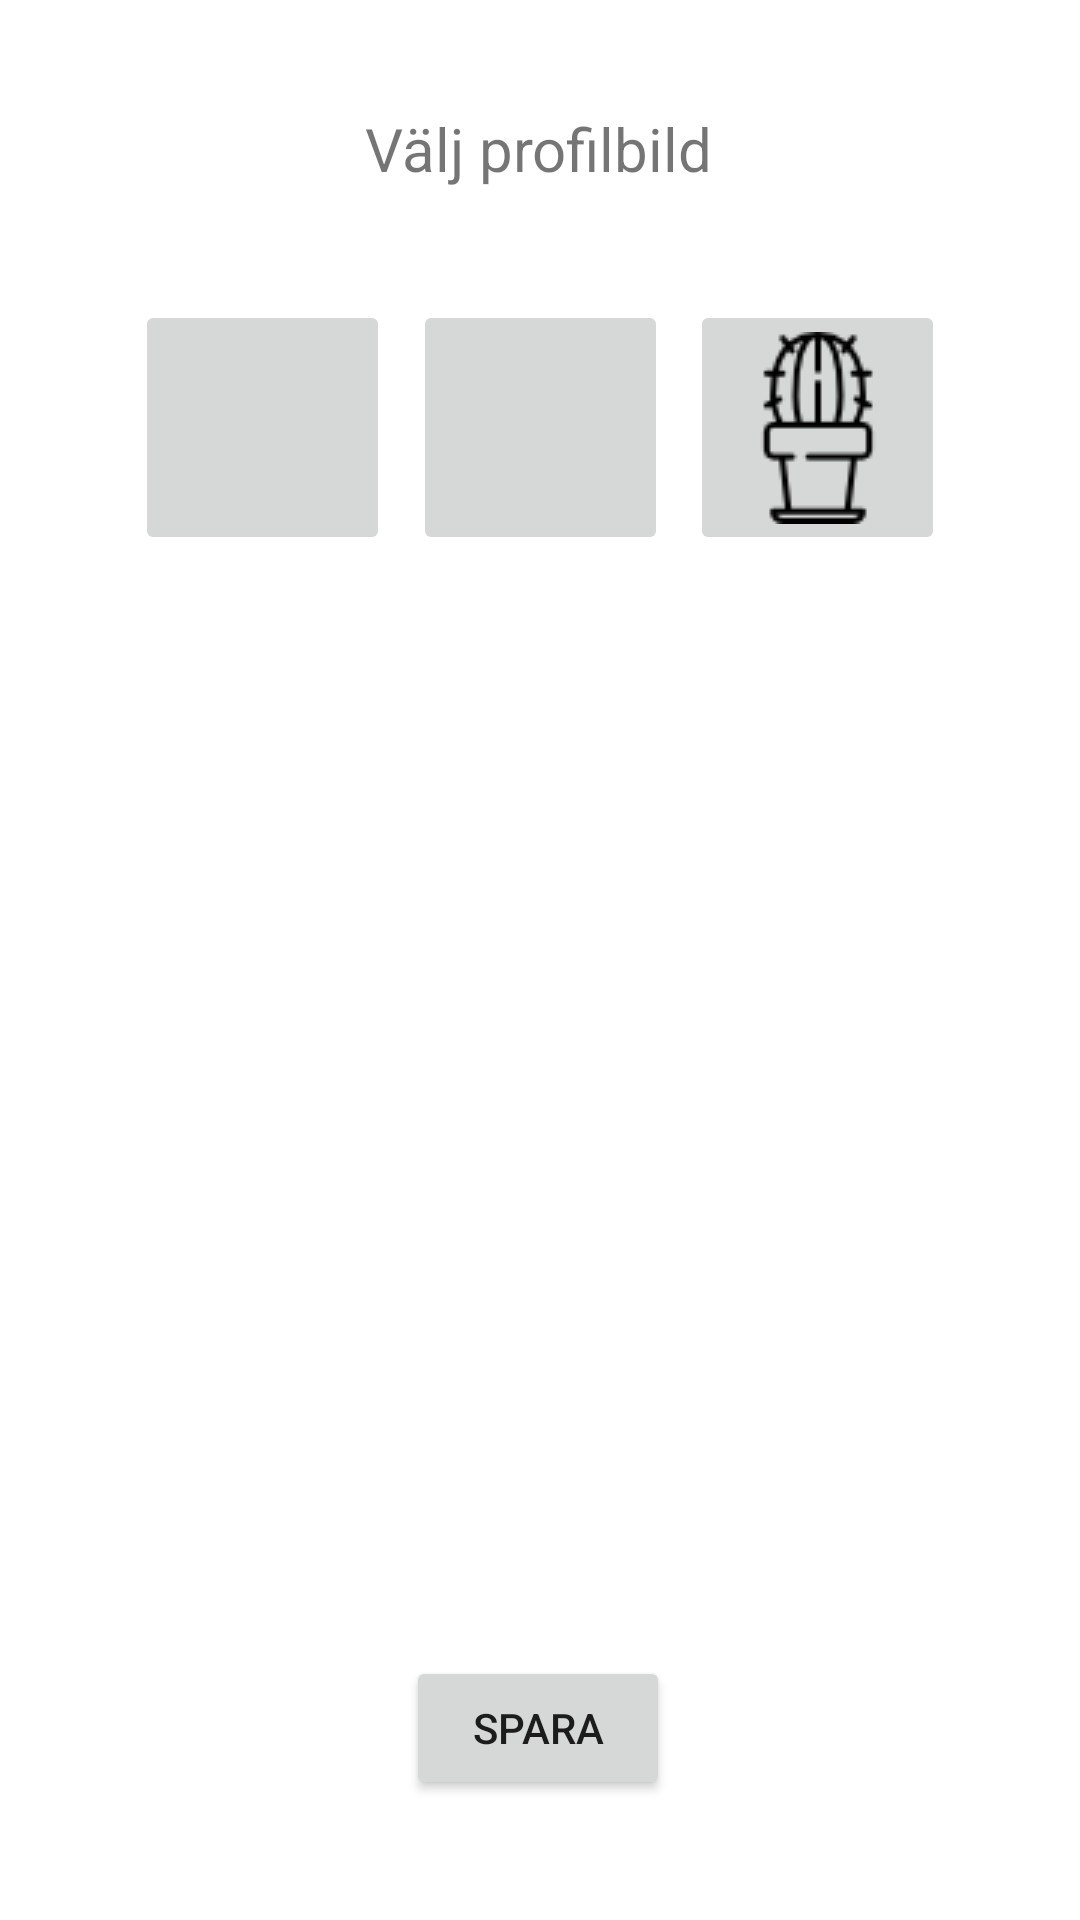

Locate icon controls on the screen. Image size 1080 x 1920, boxes as bbox=(x1, y1, x2, y2).
cactus: bbox=(702, 318, 933, 537)
